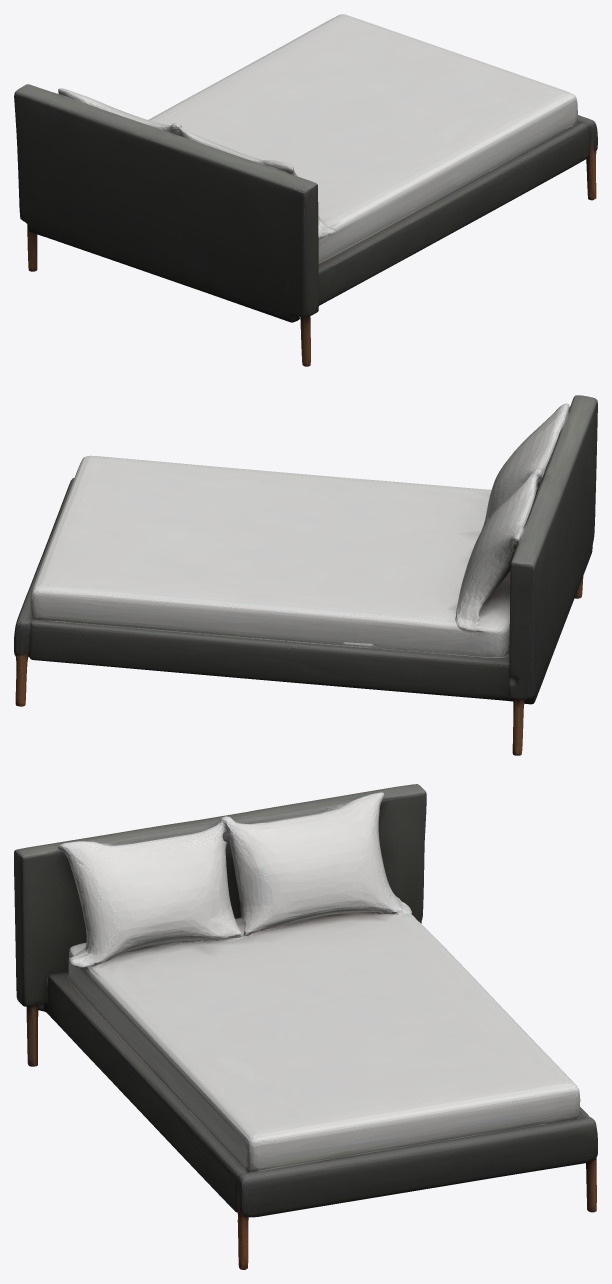
The model's file is grey_and_white_bed_000.glb.
3 views of the same model, one above another, from view 1: azimuth 30°, elevation 25°; view 2: azimuth 150°, elevation 25°; view 3: azimuth 270°, elevation 25° (orthographic). The views are drawn at different scales.
Visible parts, largest first — view 1: phase2_final_grey_and_white_bed_000.obj; view 2: phase2_final_grey_and_white_bed_000.obj; view 3: phase2_final_grey_and_white_bed_000.obj.
Part boxes in pixels (box(x1,y1,x2,y2)): phase2_final_grey_and_white_bed_000.obj: box(14, 14, 597, 366); phase2_final_grey_and_white_bed_000.obj: box(14, 395, 597, 755); phase2_final_grey_and_white_bed_000.obj: box(14, 784, 597, 1269).
Size of the model in its own units: 1.69 by 0.6092 by 1.46.
Materials: 1 (1 with a texture image).
